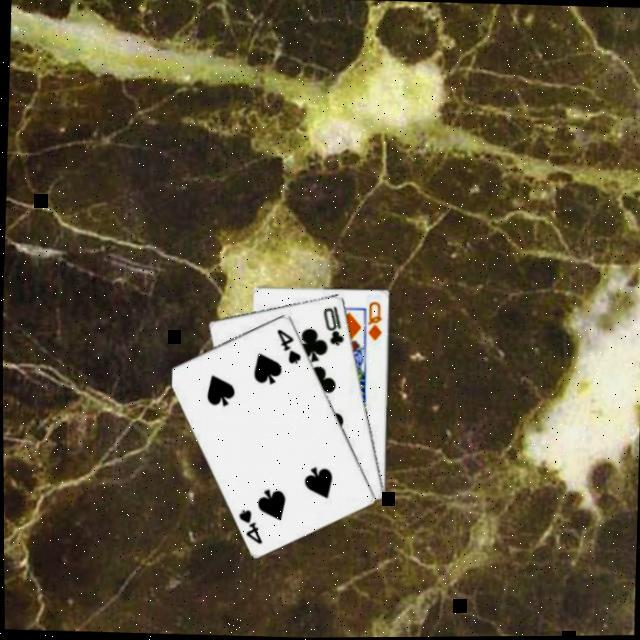10C: (320, 303, 348, 349)
4S: (274, 326, 305, 367), (235, 506, 266, 547)
QD: (365, 299, 387, 344)
